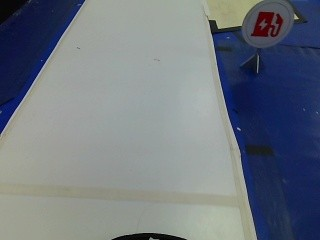battery: (246, 4, 289, 47)
